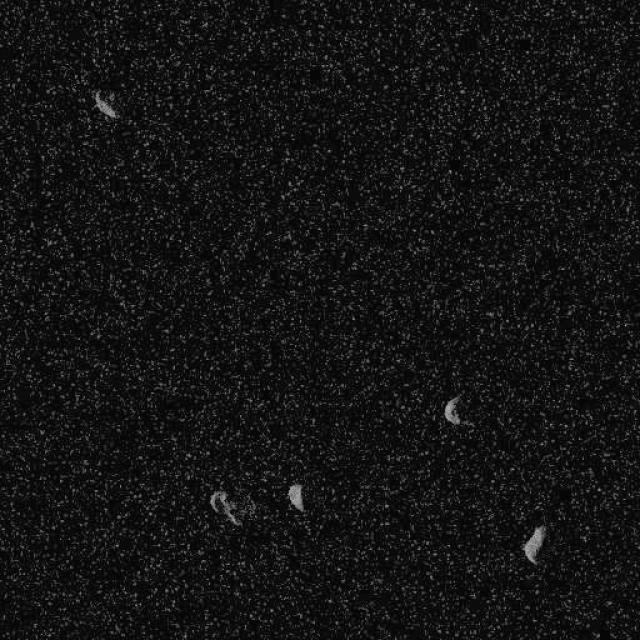D2: (209, 488, 241, 528), (520, 523, 546, 565), (91, 89, 119, 119), (442, 394, 462, 425), (286, 482, 305, 512)
